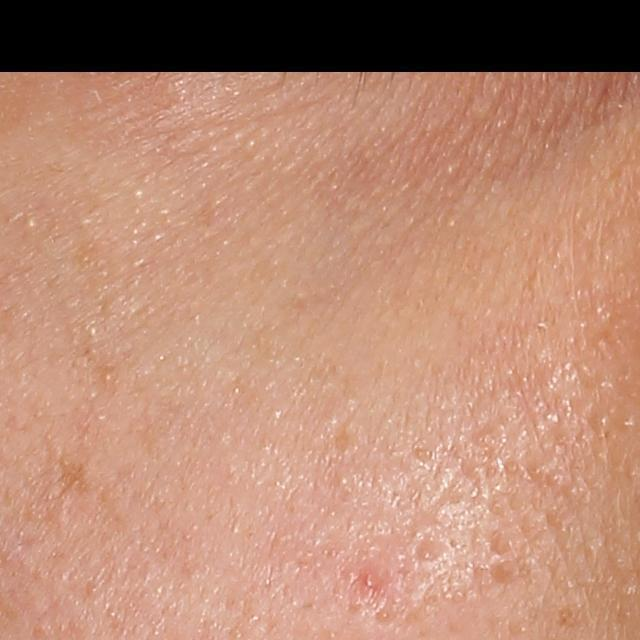atrophic_scar: (409, 536, 449, 563)
comedo: (23, 212, 43, 231)
melasma: (55, 448, 93, 504)
